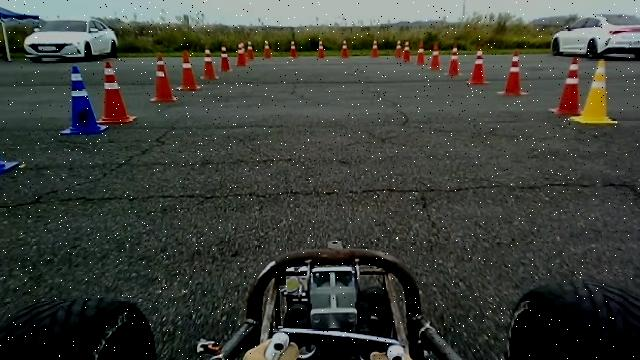blue cone: (59, 65, 107, 135)
red cone: (95, 60, 136, 123), (548, 56, 582, 115), (148, 52, 178, 101), (498, 49, 528, 96), (176, 49, 202, 90), (467, 46, 490, 84), (199, 47, 219, 79), (445, 43, 461, 76), (427, 42, 441, 70), (219, 44, 232, 72), (235, 42, 247, 66), (417, 39, 426, 64), (402, 40, 411, 61), (340, 39, 349, 58), (394, 39, 403, 58), (369, 39, 379, 56), (246, 39, 254, 58), (289, 39, 297, 57), (317, 39, 325, 57), (264, 39, 270, 58)
